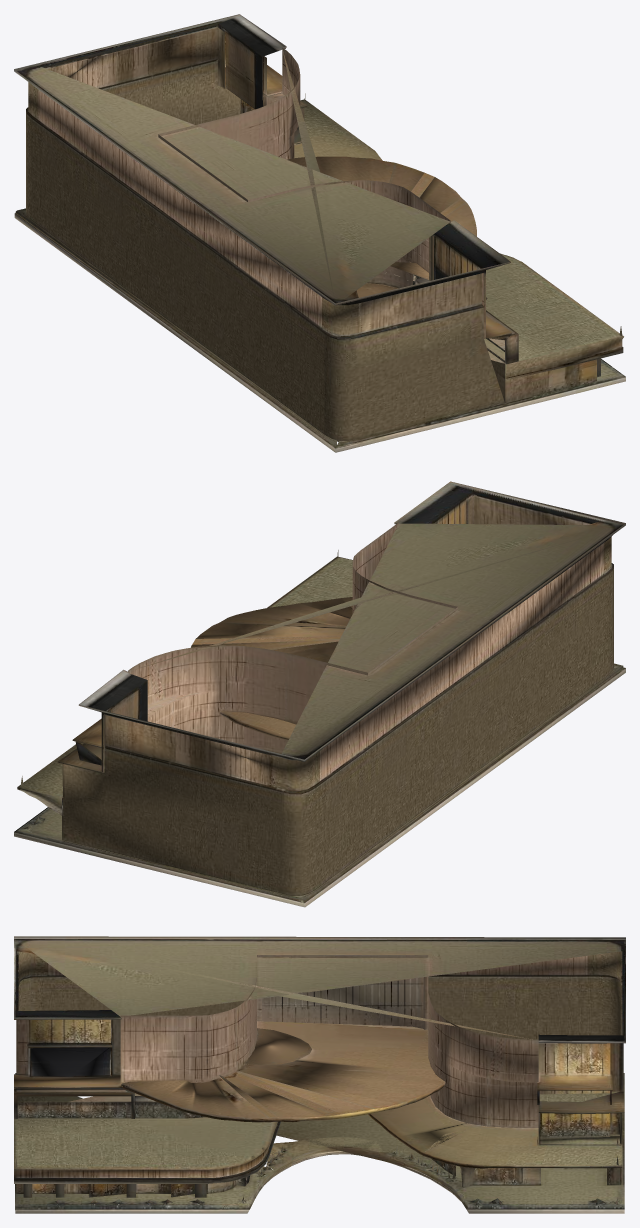
File: greenbelt.fbx
The picture shows the model from 3 angles, top to bottom: view 1: azimuth 30°, elevation 25°; view 2: azimuth 150°, elevation 25°; view 3: azimuth 270°, elevation 25°; orthographic projection. The views are drawn at different scales.
Parts seen in each view (by area): view 1: tripo_node_8ecea104-3124-4ede-b297-0f4dbeff33f9; view 2: tripo_node_8ecea104-3124-4ede-b297-0f4dbeff33f9; view 3: tripo_node_8ecea104-3124-4ede-b297-0f4dbeff33f9.
Part boxes in pixels (<box>): tripo_node_8ecea104-3124-4ede-b297-0f4dbeff33f9: <box>14,14,625,452</box>; tripo_node_8ecea104-3124-4ede-b297-0f4dbeff33f9: <box>14,481,625,907</box>; tripo_node_8ecea104-3124-4ede-b297-0f4dbeff33f9: <box>14,936,625,1213</box>.
Bounding box in the file's own units: 340 × 167 × 651.
